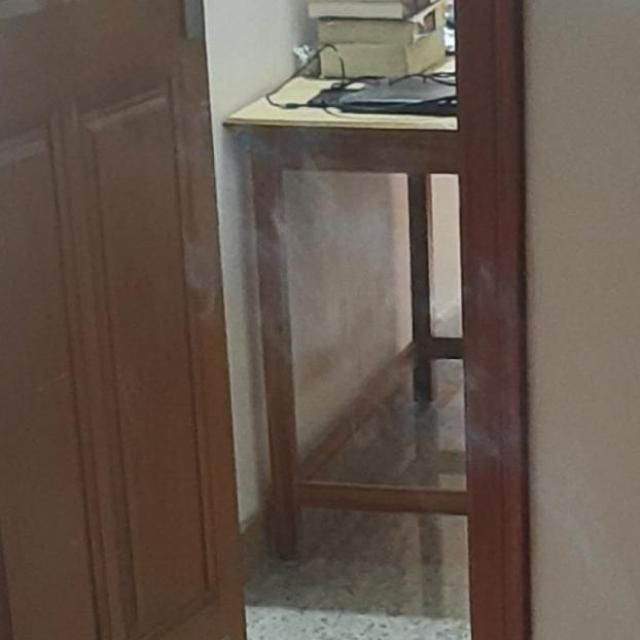fire: (166, 100, 579, 584)
